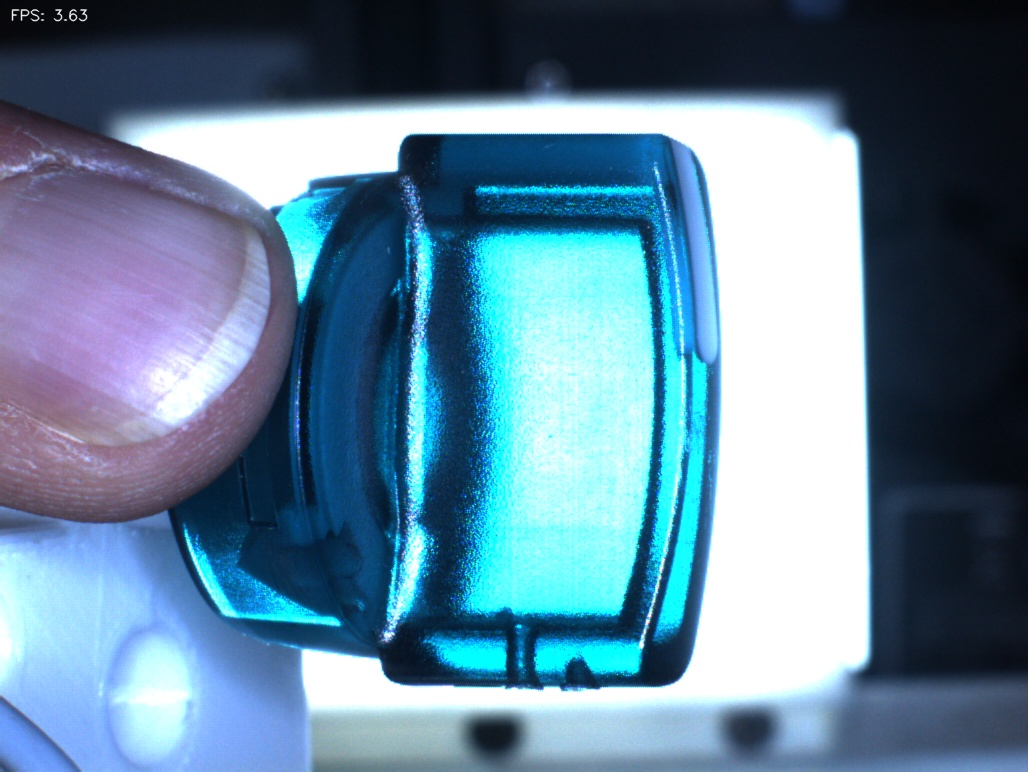Bulle: (540, 617, 628, 725)
